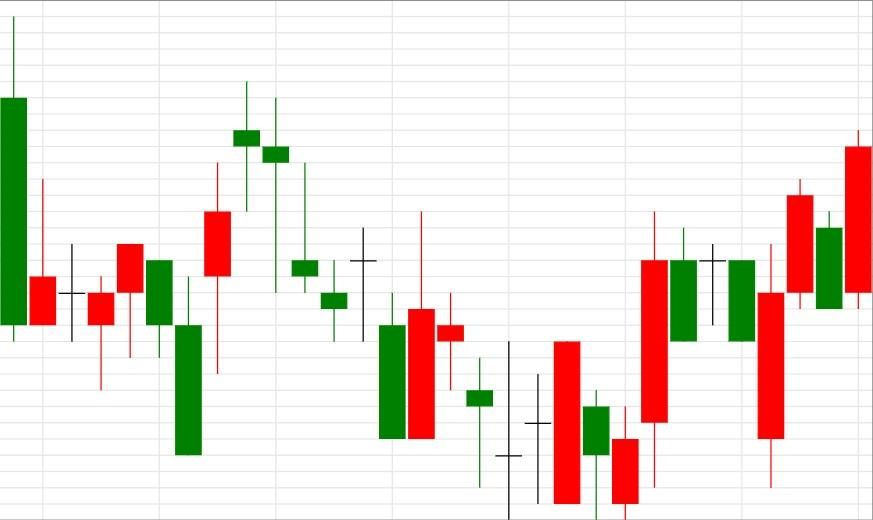bullish_engulfing_rise: (233, 81, 436, 441)
